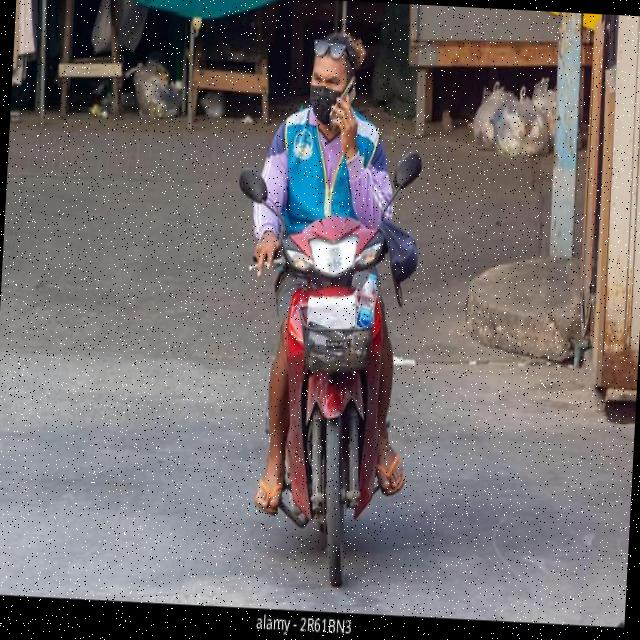No helmet: (268, 16, 395, 151)
Using mobile: (288, 20, 434, 184)
